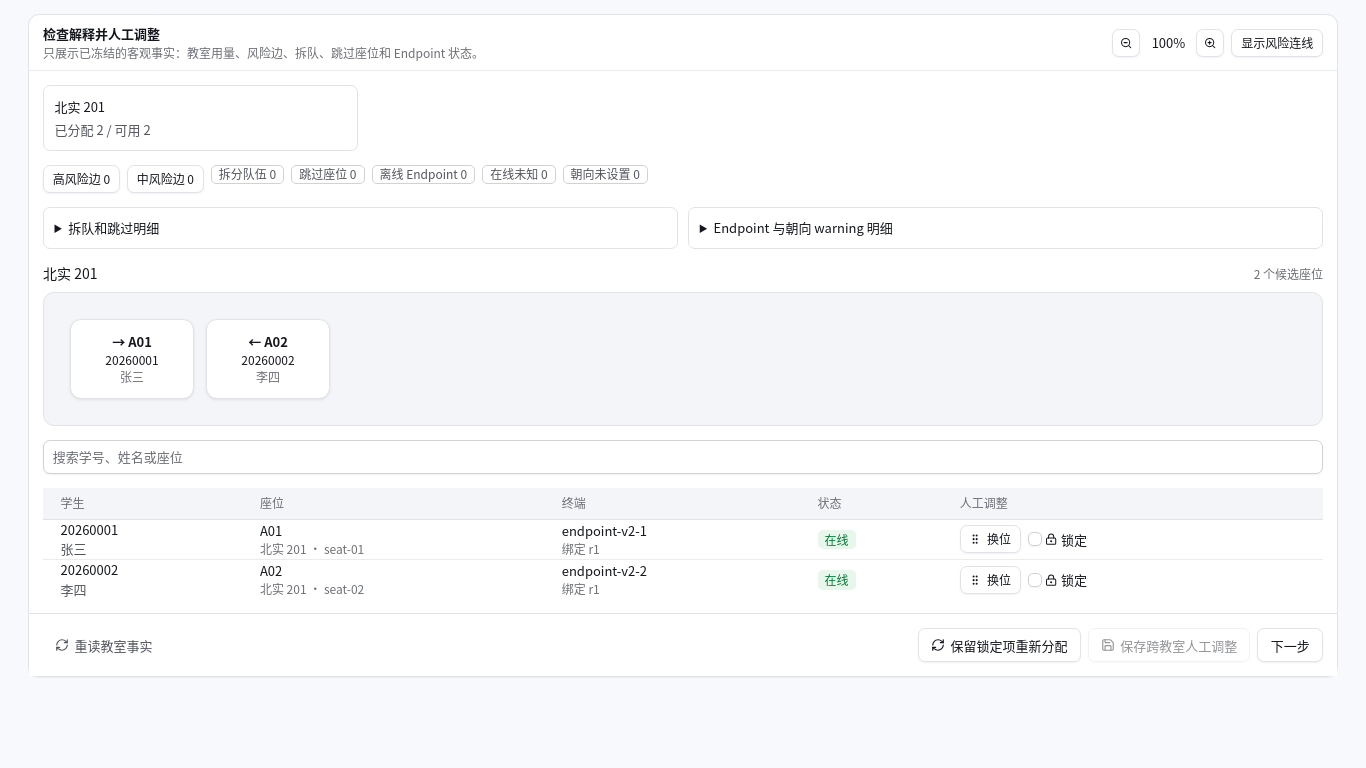
Test: p2.5 exam seat assignment workspace › offers an explicit discard-and-reload recovery after an adjustment response is lost
This screenshot has width=1366, height=768.
(page scrolled)
Click the button with aria-label "选择张三换位".
click(990, 539)  # box [960,525,1021,553]
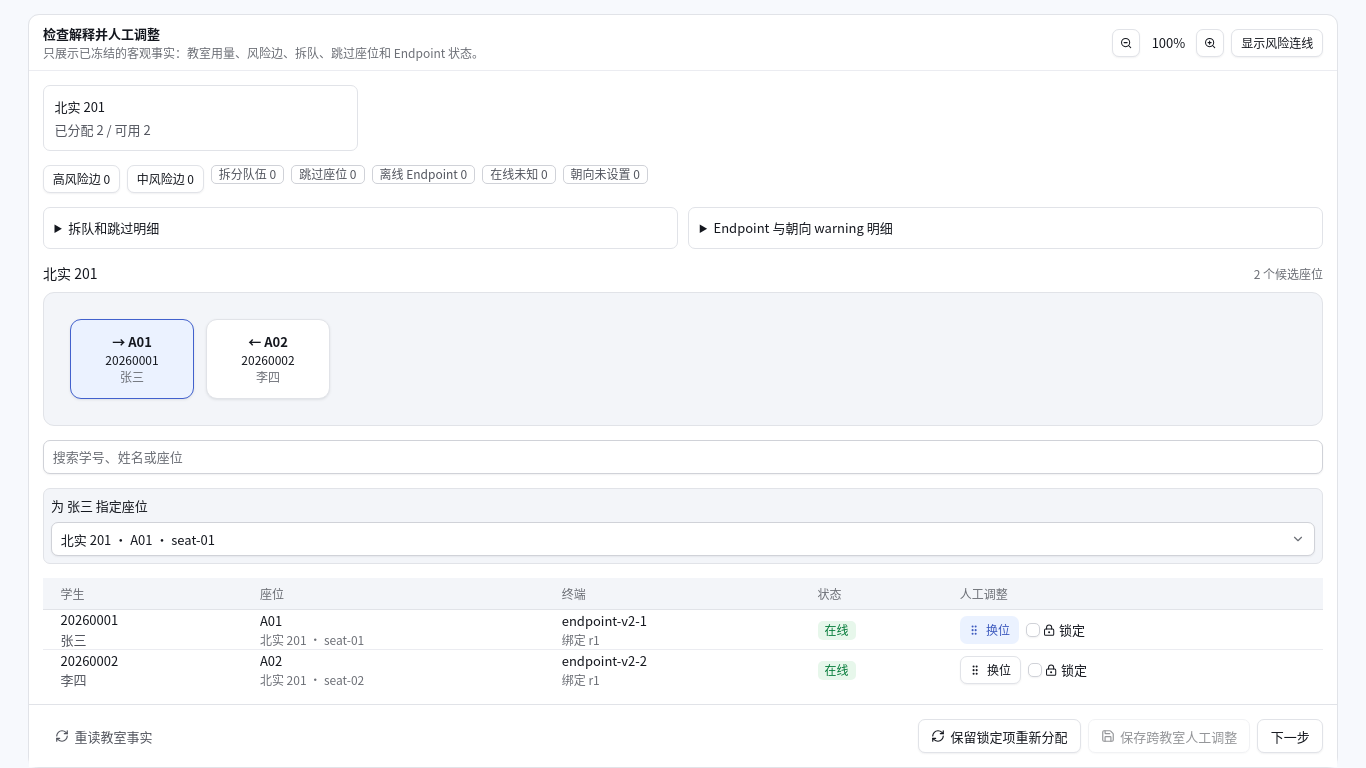
Click the button with aria-label "选择李四换位".
click(990, 670)  # box [960,656,1021,684]
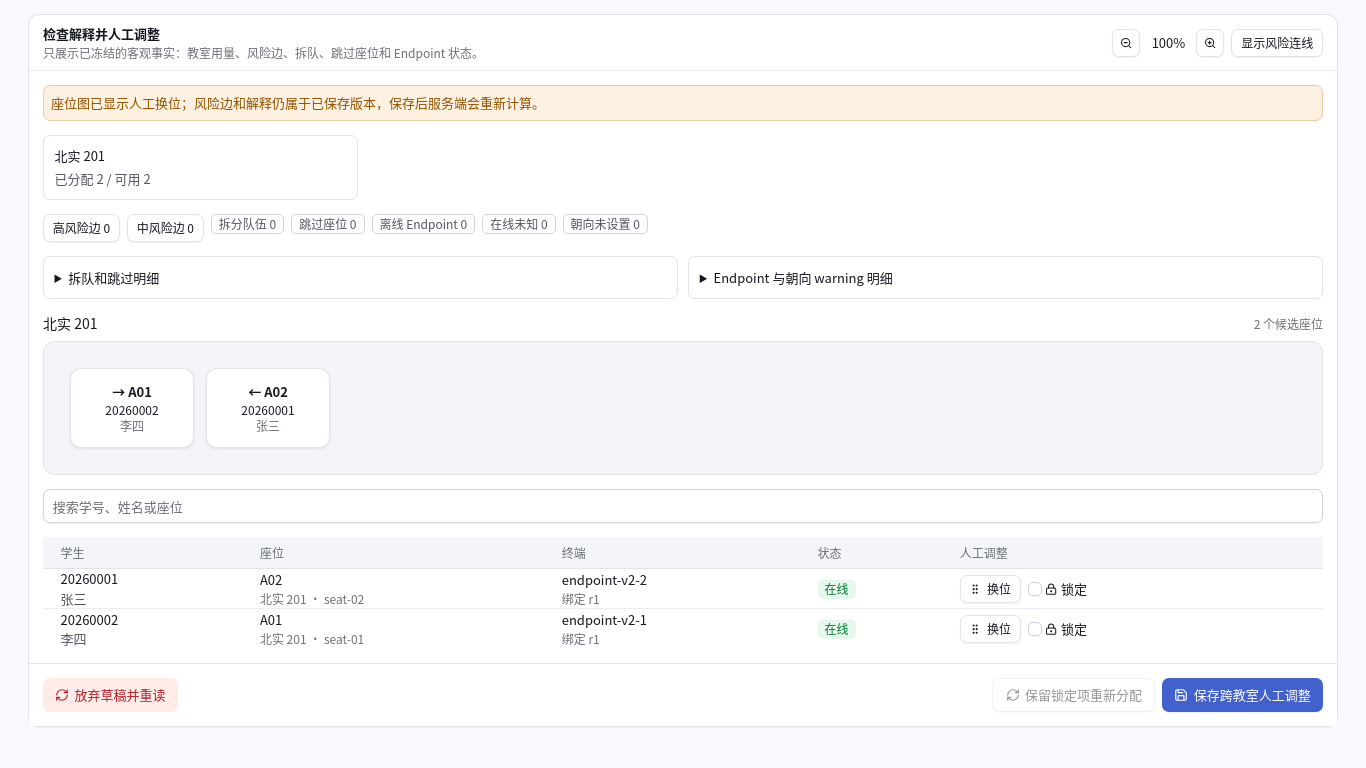
Click the button "保存跨教室人工调整".
click(1243, 695)  # box [1162,678,1323,712]
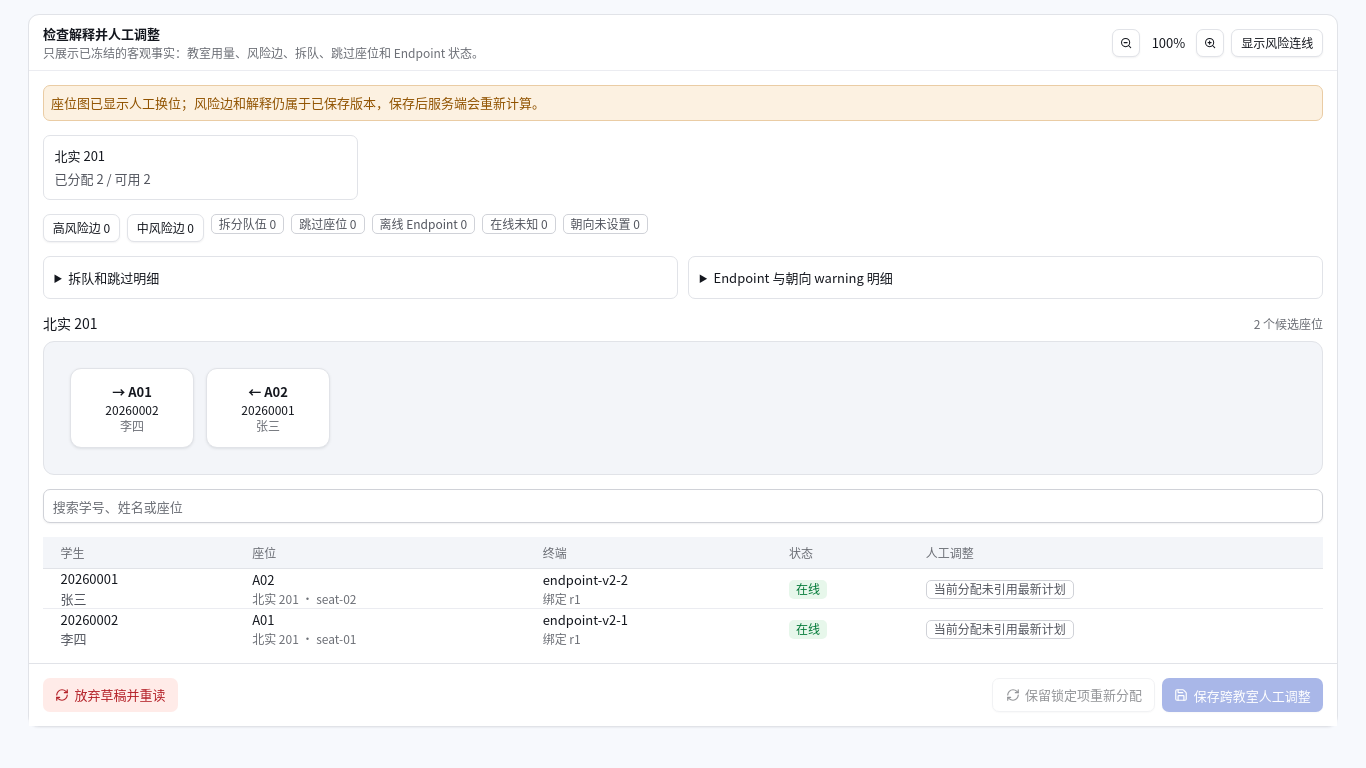
Click the button "放弃草稿并重读".
click(110, 695)  # box [43,678,178,712]
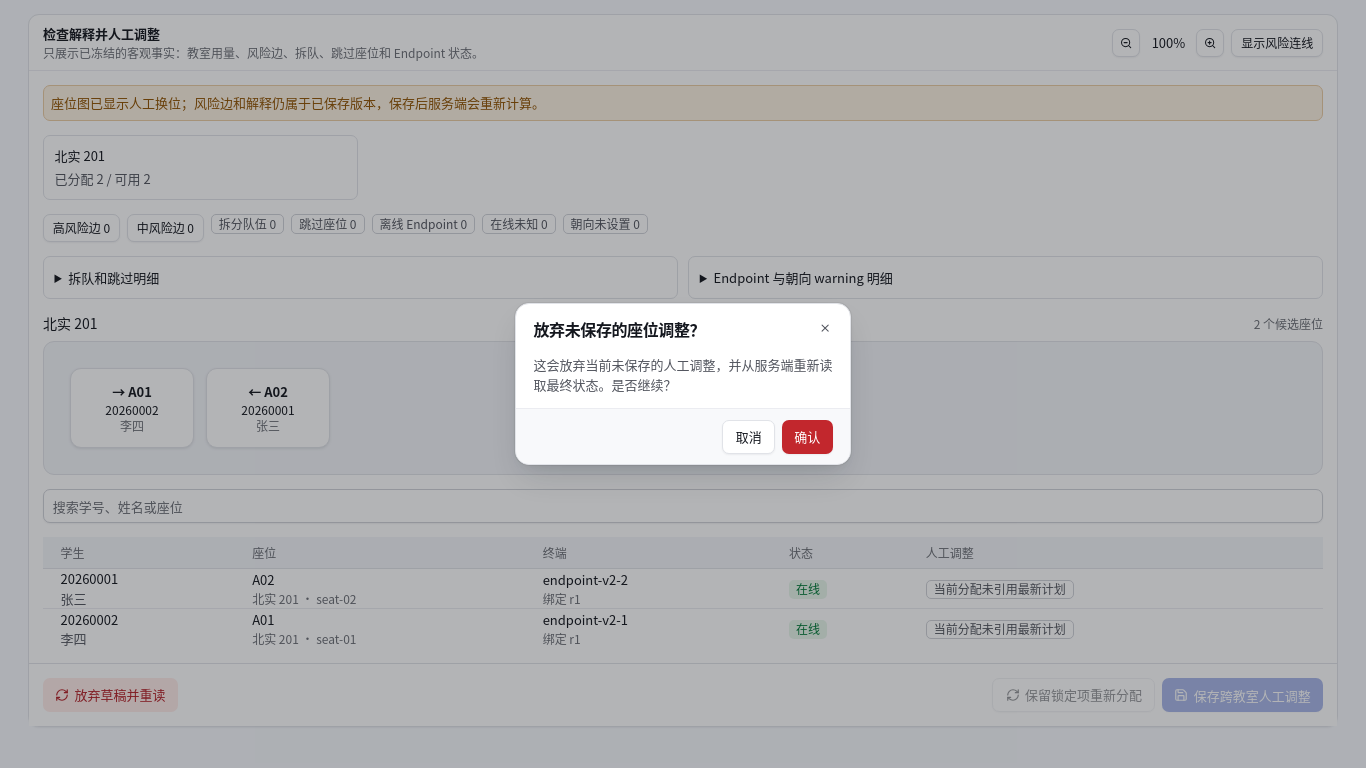
Expected: the dialog shows "这会放弃当前未保存的人工调整，并从服务端重新读取最终状态。是否继续？", [534,355,832,394]
Click the button "确认".
click(807, 437)  # box [782,420,832,454]
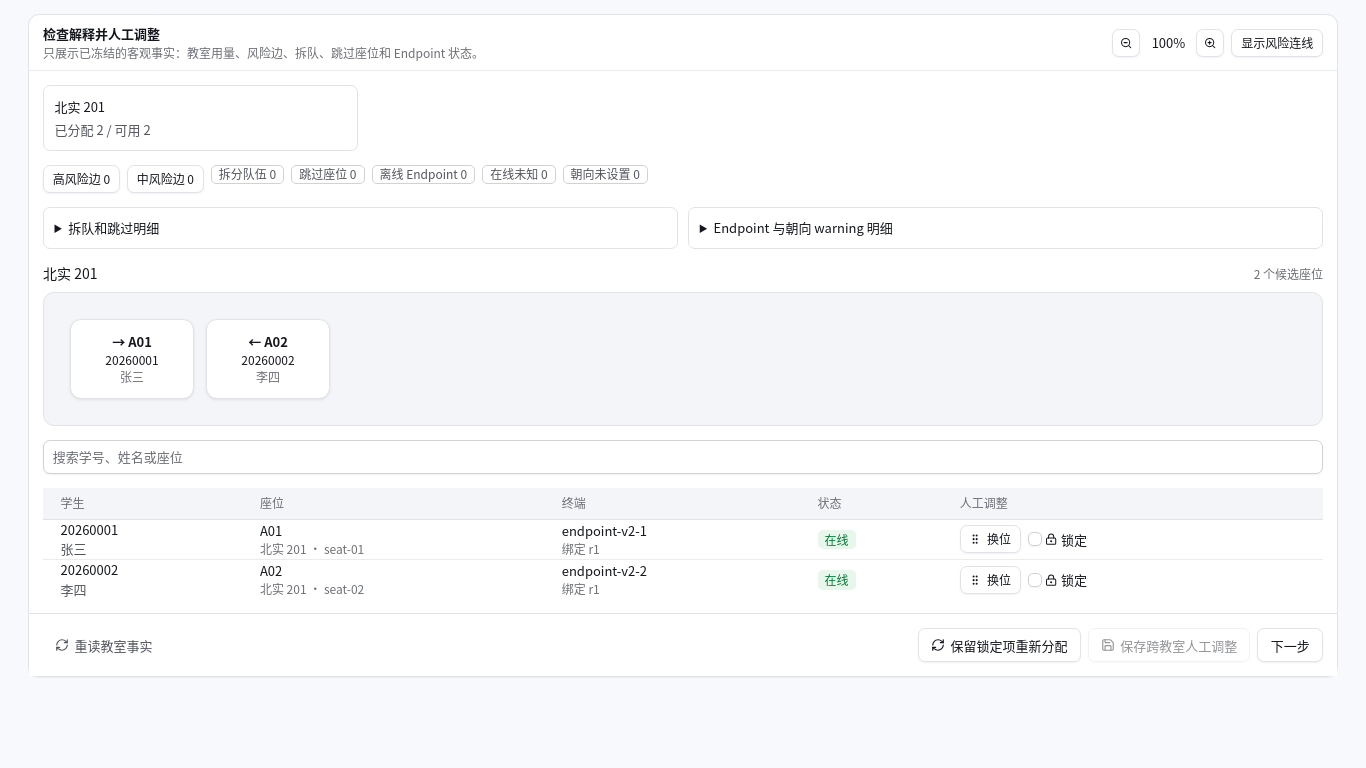
Expected: the button with aria-label "选择张三换位" is enabled, [960,525,1021,553]
